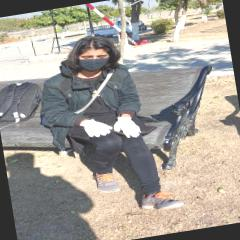gloved: (80, 116, 114, 139), (114, 114, 142, 140)
